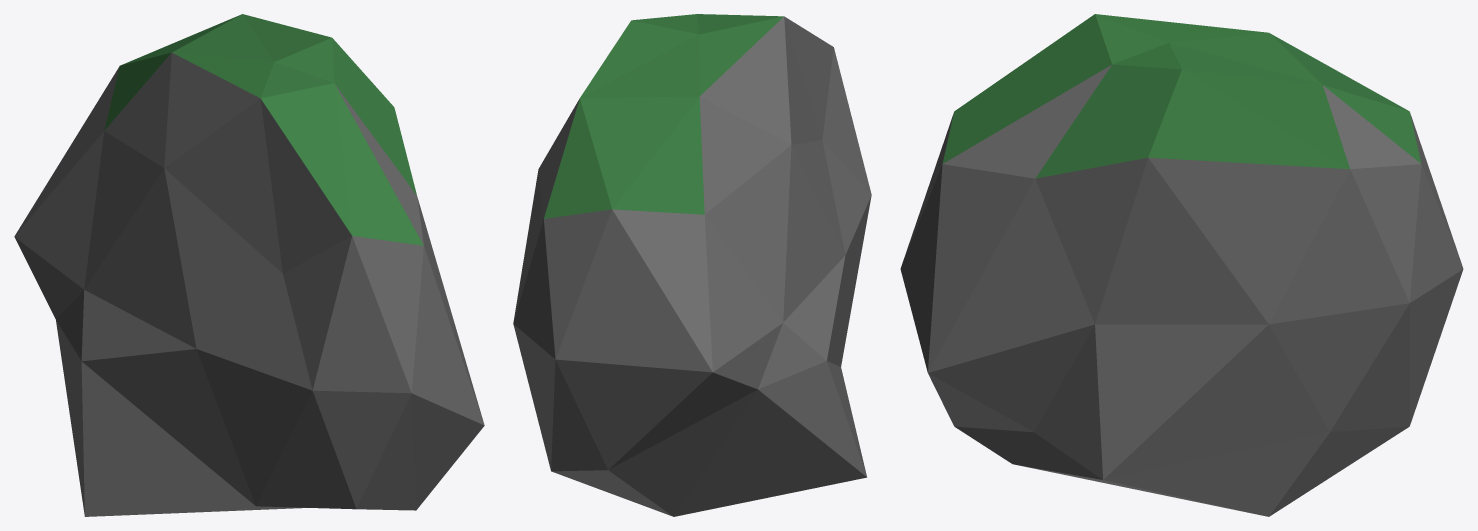
The model's file is WallStone01fbx.fbx.
3 renders of one model, left to right at view 1: azimuth 30°, elevation 25°; view 2: azimuth 150°, elevation 25°; view 3: azimuth 270°, elevation 25°, orthographic. The views are drawn at different scales.
Visible parts, largest first — view 1: Icosphere; view 2: Icosphere; view 3: Icosphere.
Part boxes in pixels (x1,y1,x2,y2): Icosphere: (14, 14, 484, 516); Icosphere: (513, 14, 871, 516); Icosphere: (900, 14, 1463, 516).
Size of the model in its own units: 244 by 313 by 371.
